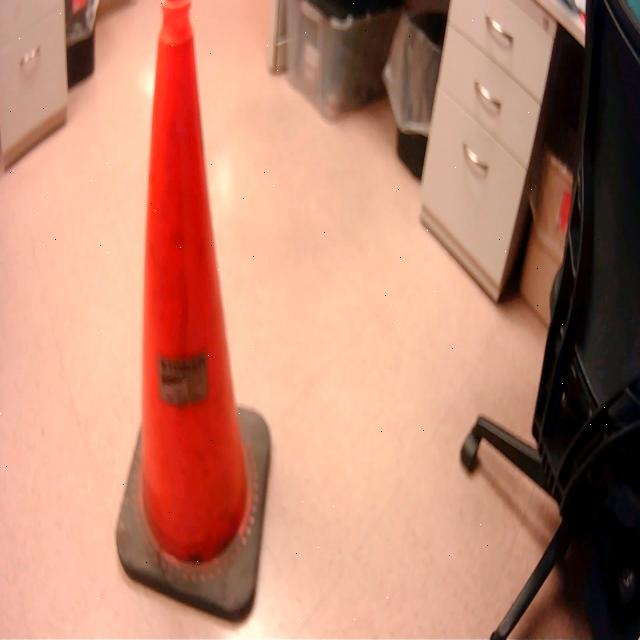traffic cone: (111, 2, 279, 632)
